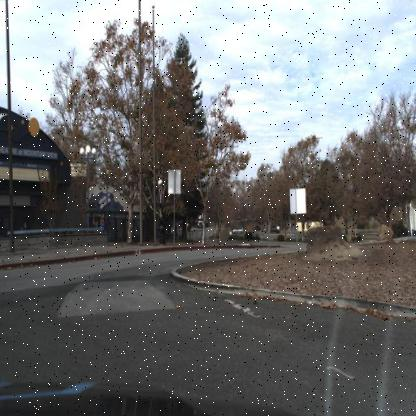car: (233, 227, 244, 235)
truck: (198, 213, 209, 228)
